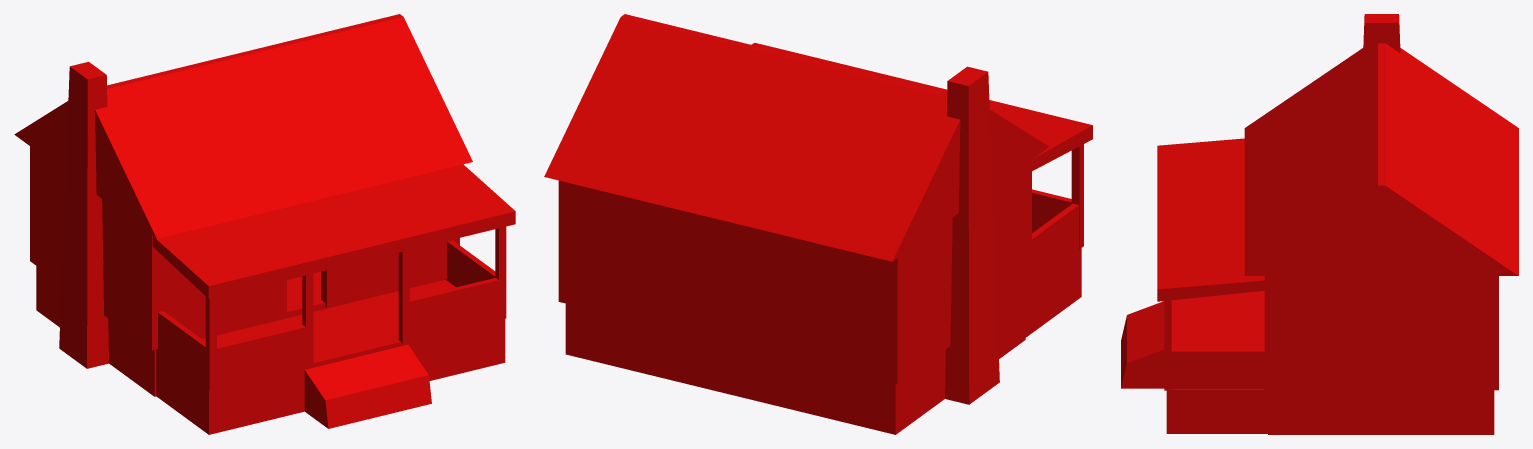
The model's file is SM_Bld_House_03_Collision.fbx.
3 views of the same model, side by side, from view 1: azimuth 30°, elevation 25°; view 2: azimuth 150°, elevation 25°; view 3: azimuth 270°, elevation 25° (orthographic). The views are drawn at different scales.
Parts seen in each view (by area): view 1: SM_Bld_House_03_Collision; view 2: SM_Bld_House_03_Collision; view 3: SM_Bld_House_03_Collision.
Part boxes in pixels (box(x1,y1,x2,y2)): SM_Bld_House_03_Collision: box(14, 14, 515, 434); SM_Bld_House_03_Collision: box(544, 14, 1092, 434); SM_Bld_House_03_Collision: box(1121, 14, 1518, 434).
Size of the model in its own units: 851 by 704 by 930.
